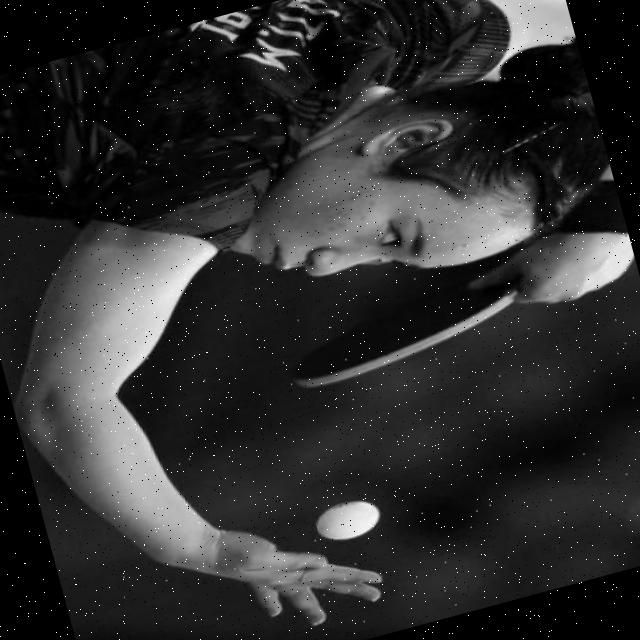ping-pong-ball: (304, 488, 394, 554)
